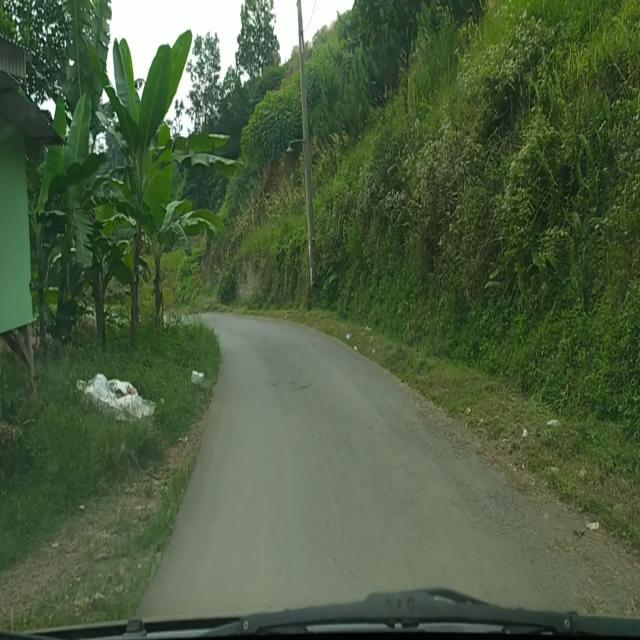Drain Hole: (450, 479, 537, 541), (392, 412, 473, 462)
